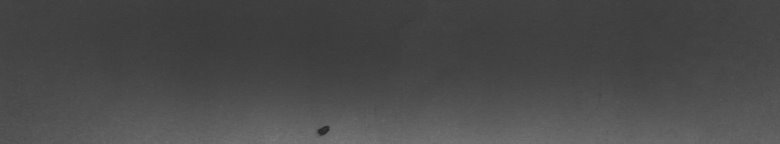fi: (311, 120, 336, 136)
